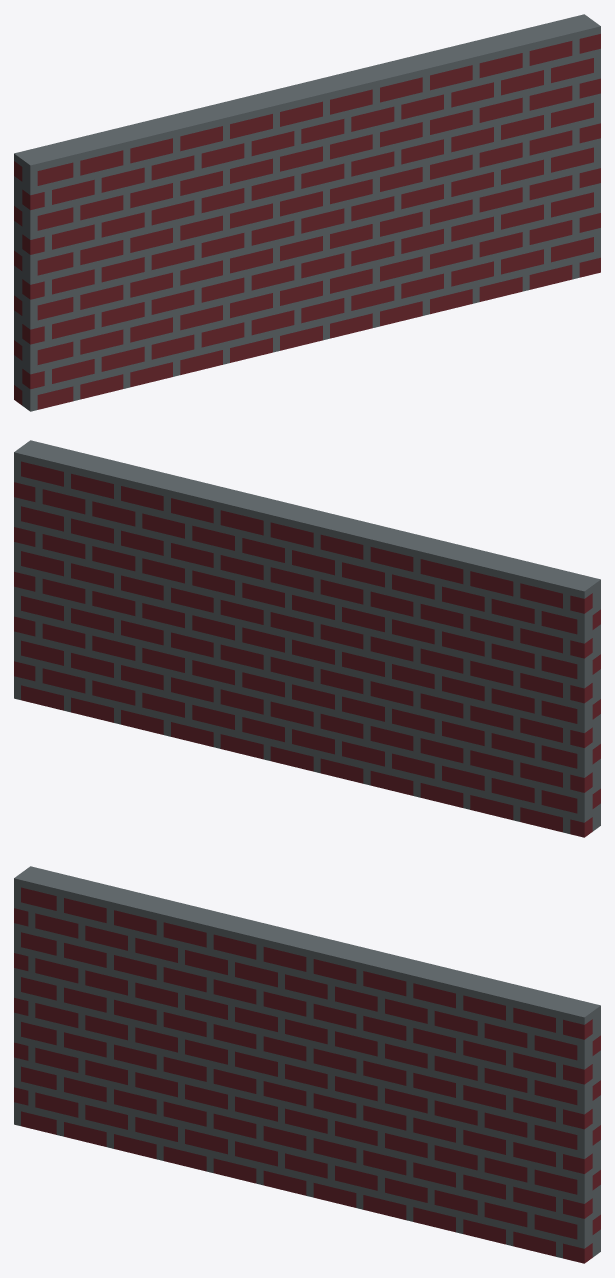
Rendered from wall2_straight2.obj.
The picture shows the model from 3 angles, top to bottom: view 1: azimuth 30°, elevation 25°; view 2: azimuth 150°, elevation 25°; view 3: azimuth 330°, elevation 25°; orthographic projection.
Bounding box in the file's own units: 8 × 3.3 × 0.4.
Materials: 1 (1 with a texture image).
